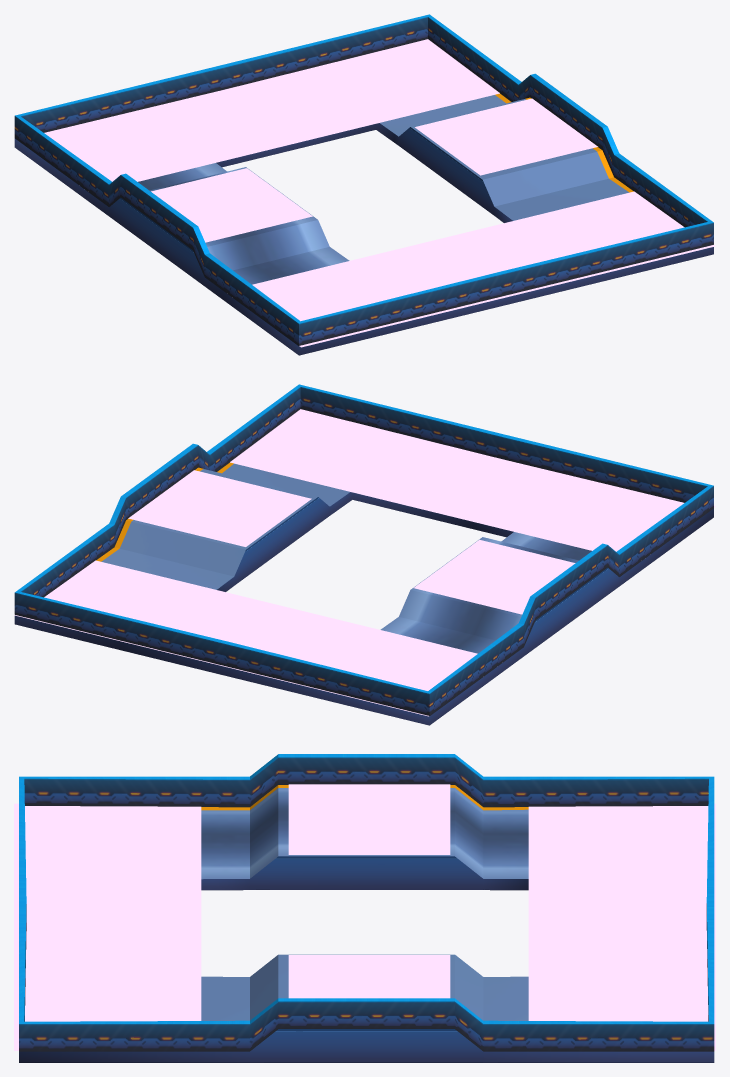
Rendered from Battle_Stage 47.fbx.
The picture shows the model from 3 angles, top to bottom: view 1: azimuth 30°, elevation 25°; view 2: azimuth 150°, elevation 25°; view 3: azimuth 270°, elevation 25°; orthographic projection. The views are drawn at different scales.
Parts seen in each view (by area): view 1: DB_Platform_Cube__4_.001, Plane.092, DB_Platform_Cube__4_, Plane.093, Plane.094, Plane.095; view 2: DB_Platform_Cube__4_.001, DB_Platform_Cube__4_, Plane.093, Plane.092, Plane.094, Plane.095; view 3: DB_Platform_Cube__4_.001, DB_Platform_Cube__4_, Plane.093, Plane.092, Plane.095, Plane.094, DB_Platform_Cube__4_.002.
Boxes of the visible parts, x1,y1,x2,y2 form: DB_Platform_Cube__4_.001: (14, 14, 713, 345); Plane.092: (44, 39, 499, 181); DB_Platform_Cube__4_: (14, 95, 713, 355); Plane.093: (252, 191, 715, 347); Plane.094: (415, 98, 597, 175); Plane.095: (151, 168, 312, 242); DB_Platform_Cube__4_.001: (14, 384, 713, 716); DB_Platform_Cube__4_: (14, 463, 713, 725); Plane.093: (230, 409, 715, 551); Plane.092: (14, 560, 477, 716); Plane.094: (128, 470, 311, 546); Plane.095: (414, 539, 575, 614); DB_Platform_Cube__4_.001: (19, 754, 714, 1051); DB_Platform_Cube__4_: (19, 788, 714, 1062); Plane.093: (14, 803, 201, 1050); Plane.092: (528, 803, 715, 1050); Plane.095: (288, 784, 450, 854); Plane.094: (288, 955, 450, 998); DB_Platform_Cube__4_.002: (201, 785, 528, 810).
Size of the model in its own units: 4725 by 547 by 5665.
